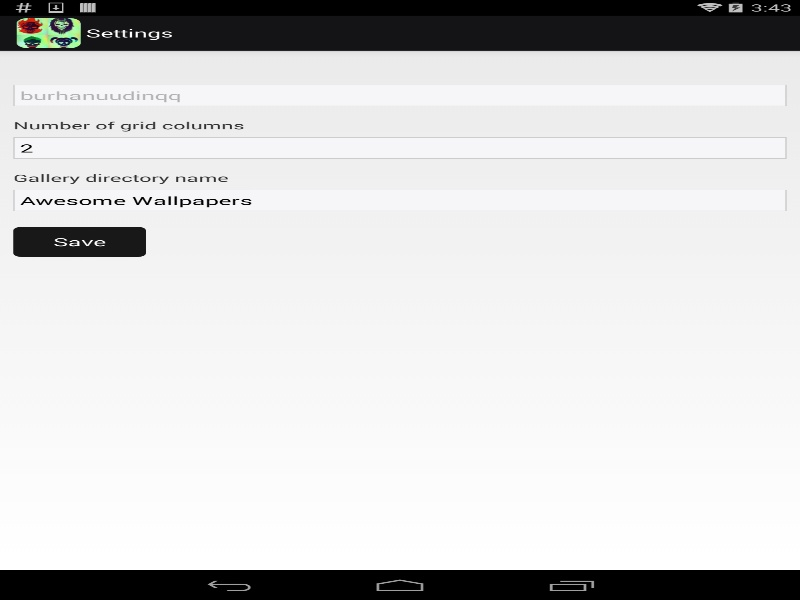Button: (13, 226, 146, 256)
Input: (13, 84, 786, 106), (13, 189, 786, 211), (13, 137, 786, 158)
